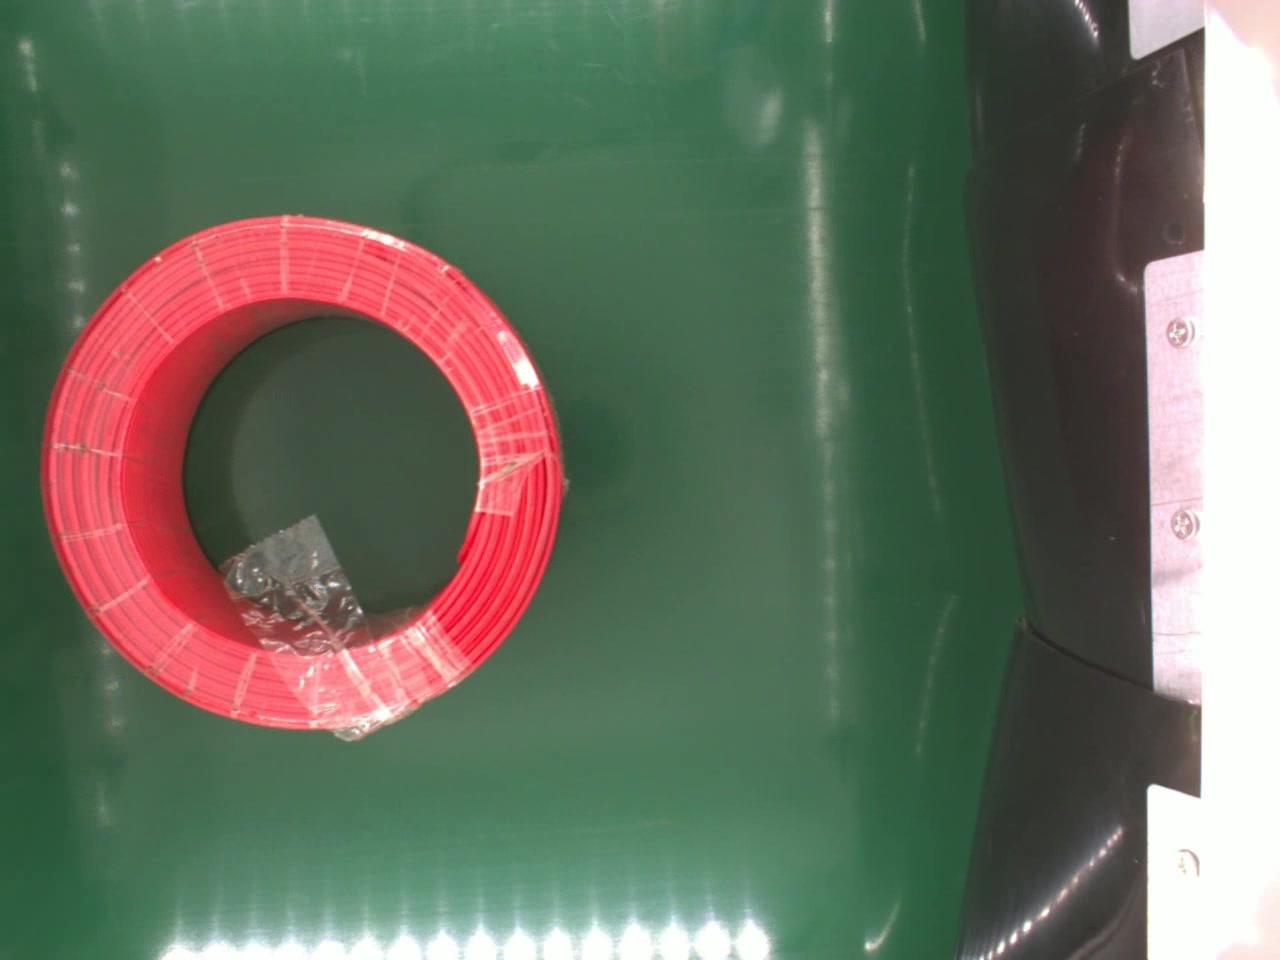red: (40, 211, 563, 730)
